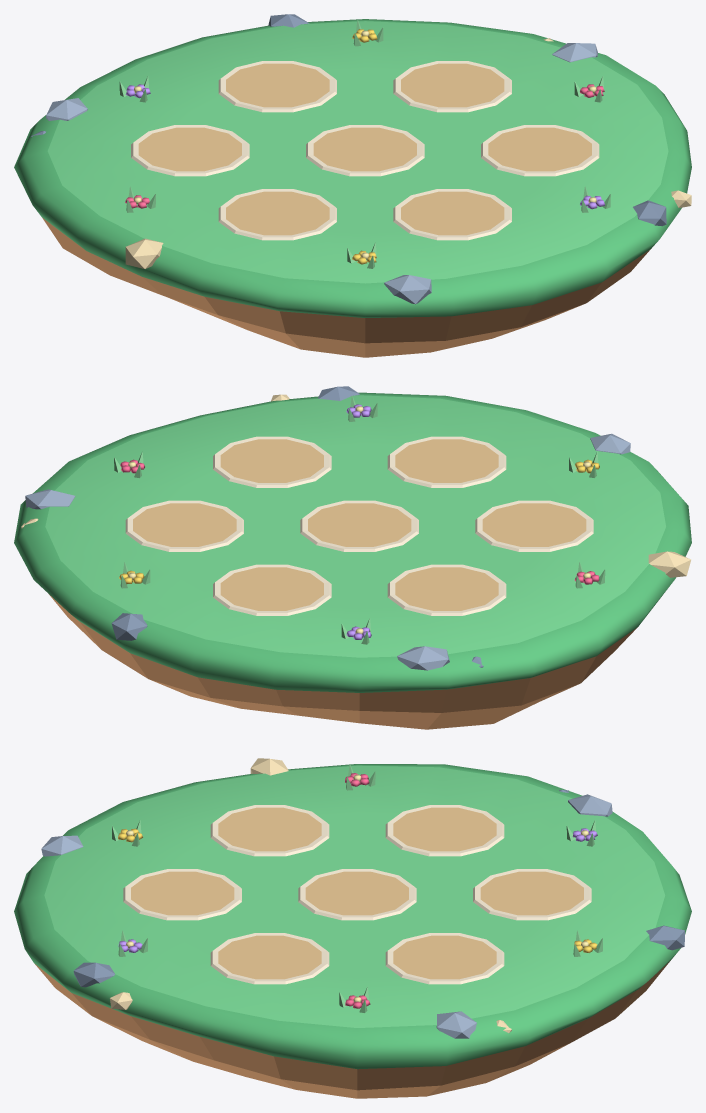
The model's file is island_ring0.glb.
3 views of the same model, one above another, from view 1: azimuth 30°, elevation 25°; view 2: azimuth 150°, elevation 25°; view 3: azimuth 270°, elevation 25° (orthographic).
Visible parts, largest first — view 1: island_ring0, plot_pad_6, plot_pad_0, plot_pad_2, plot_pad_4, plot_pad_1, plot_pad_3, plot_pad_5; view 2: island_ring0, plot_pad_6, plot_pad_4, plot_pad_2, plot_pad_1, plot_pad_3, plot_pad_0, plot_pad_5; view 3: island_ring0, plot_pad_3, plot_pad_2, plot_pad_5, plot_pad_6, plot_pad_1, plot_pad_0, plot_pad_4.
Part boxes in pixels (x1=…): island_ring0: x1=14, y1=14, x2=691, y2=357; plot_pad_6: x1=131, y1=125, x2=249, y2=176; plot_pad_0: x1=306, y1=125, x2=424, y2=176; plot_pad_2: x1=393, y1=61, x2=511, y2=112; plot_pad_4: x1=393, y1=189, x2=511, y2=240; plot_pad_1: x1=218, y1=61, x2=336, y2=112; plot_pad_3: x1=481, y1=125, x2=599, y2=176; plot_pad_5: x1=218, y1=189, x2=336, y2=240; island_ring0: x1=14, y1=386, x2=691, y2=729; plot_pad_6: x1=387, y1=564, x2=506, y2=615; plot_pad_4: x1=387, y1=436, x2=506, y2=487; plot_pad_2: x1=125, y1=500, x2=243, y2=551; plot_pad_1: x1=213, y1=564, x2=331, y2=615; plot_pad_3: x1=213, y1=436, x2=331, y2=487; plot_pad_0: x1=300, y1=500, x2=418, y2=551; plot_pad_5: x1=475, y1=500, x2=593, y2=551; island_ring0: x1=14, y1=758, x2=691, y2=1098; plot_pad_3: x1=210, y1=933, x2=329, y2=984; plot_pad_2: x1=385, y1=933, x2=504, y2=984; plot_pad_5: x1=210, y1=805, x2=329, y2=856; plot_pad_6: x1=385, y1=805, x2=504, y2=856; plot_pad_1: x1=473, y1=869, x2=591, y2=920; plot_pad_0: x1=298, y1=869, x2=416, y2=920; plot_pad_4: x1=123, y1=869, x2=241, y2=920.
Bounding box in the file's own units: 9.51 × 2.67 × 9.5.
